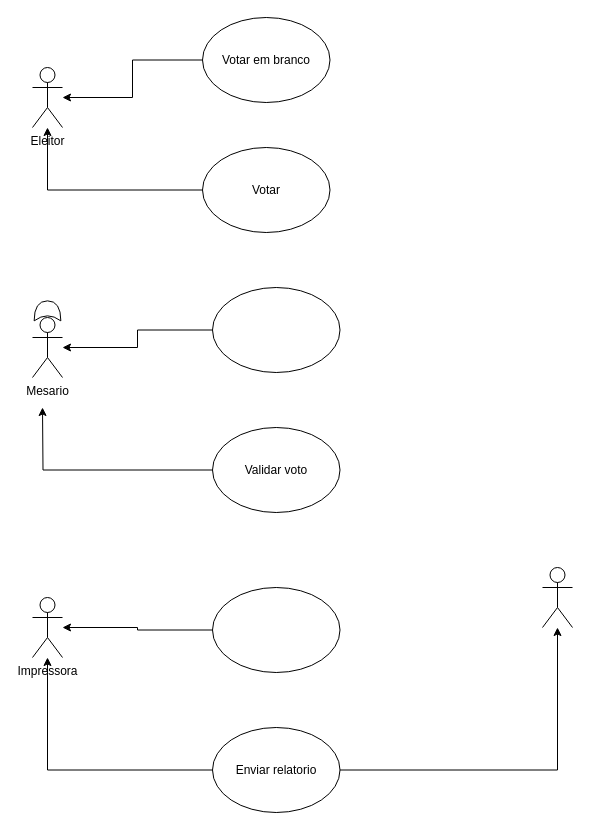
Some shapes in this 590 by 830 pixel diagram are drawn without their labels. Here are the shapes that lost their labels. From the top down, the box of each, then its label:
(212, 286, 340, 372): Validar titulo
(542, 566, 572, 628): TSE
(212, 586, 340, 672): Finalizar sessão
